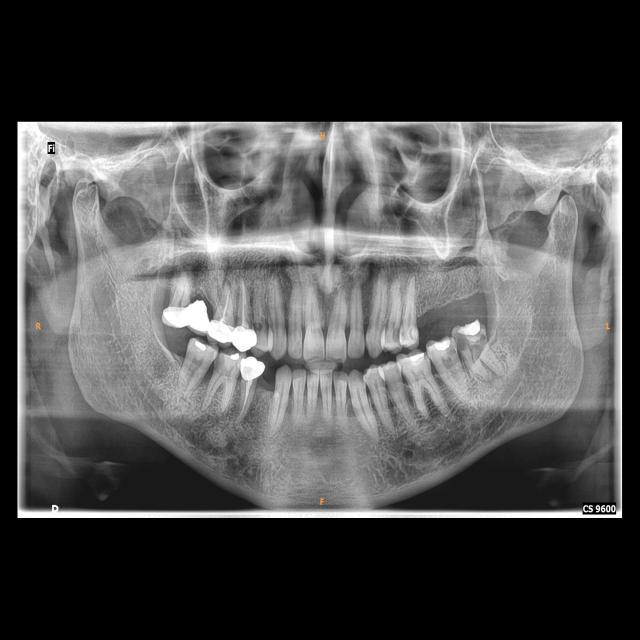dentin-curugu: (468, 334, 488, 361), (442, 348, 461, 372), (454, 332, 471, 352), (253, 319, 266, 334)
dolgu: (459, 320, 485, 339), (224, 349, 243, 365), (433, 339, 454, 353), (193, 340, 211, 356)
kanal-tedavisi: (216, 289, 232, 320), (239, 286, 250, 326), (240, 383, 253, 415)
kaplama: (164, 300, 188, 332), (208, 317, 234, 345), (239, 357, 268, 382), (234, 324, 258, 350)
kopru: (180, 291, 217, 336)
